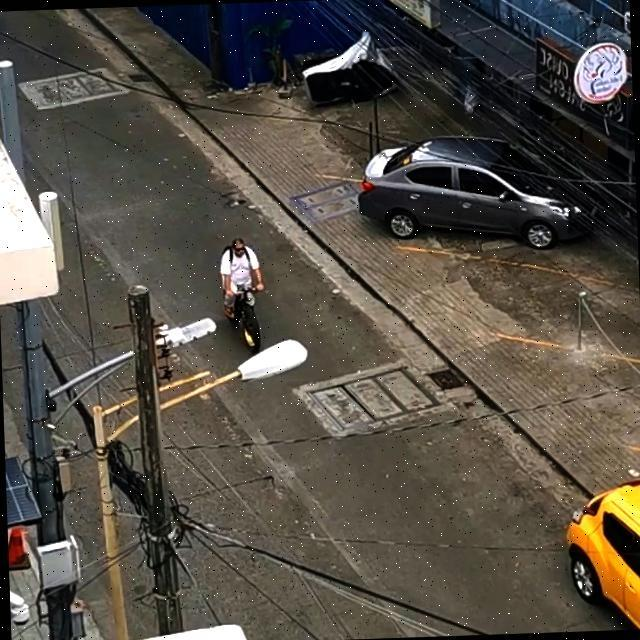Bike: (190, 212, 308, 362)
